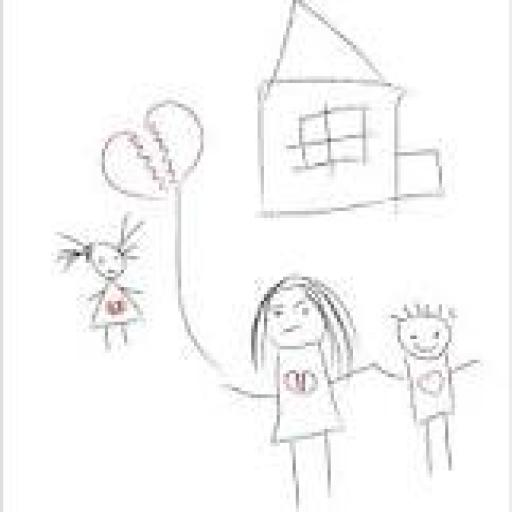person: (224, 272, 375, 509), (375, 290, 483, 486), (51, 209, 155, 363)
